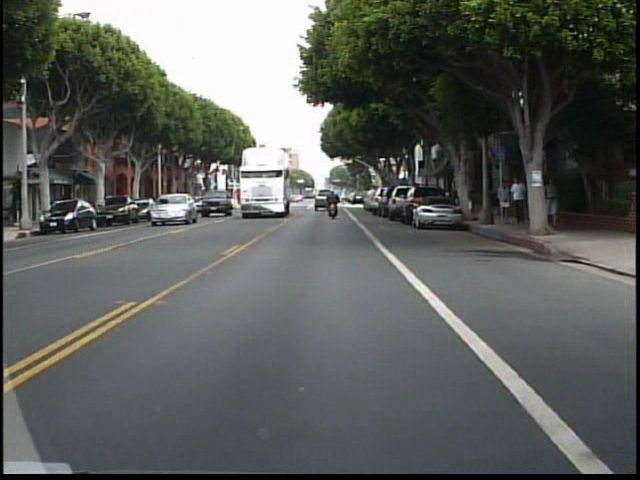person: (508, 175, 527, 228), (543, 174, 560, 228), (492, 176, 510, 227), (324, 186, 343, 220)
